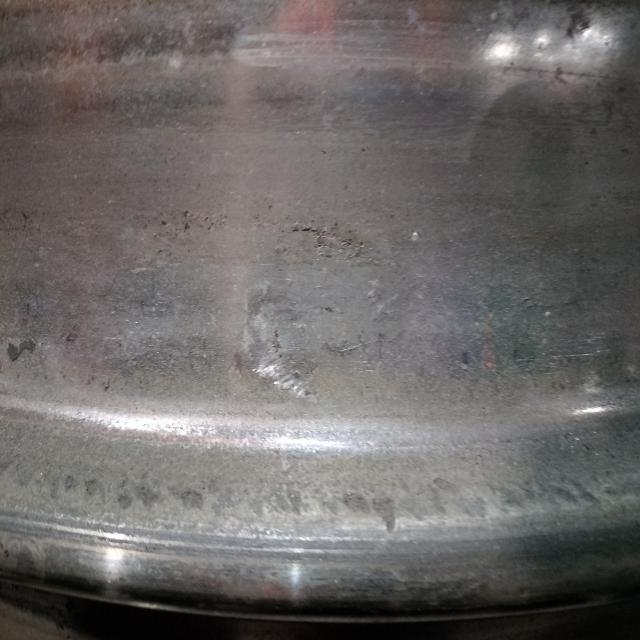Rollerpile: (228, 267, 353, 411)
